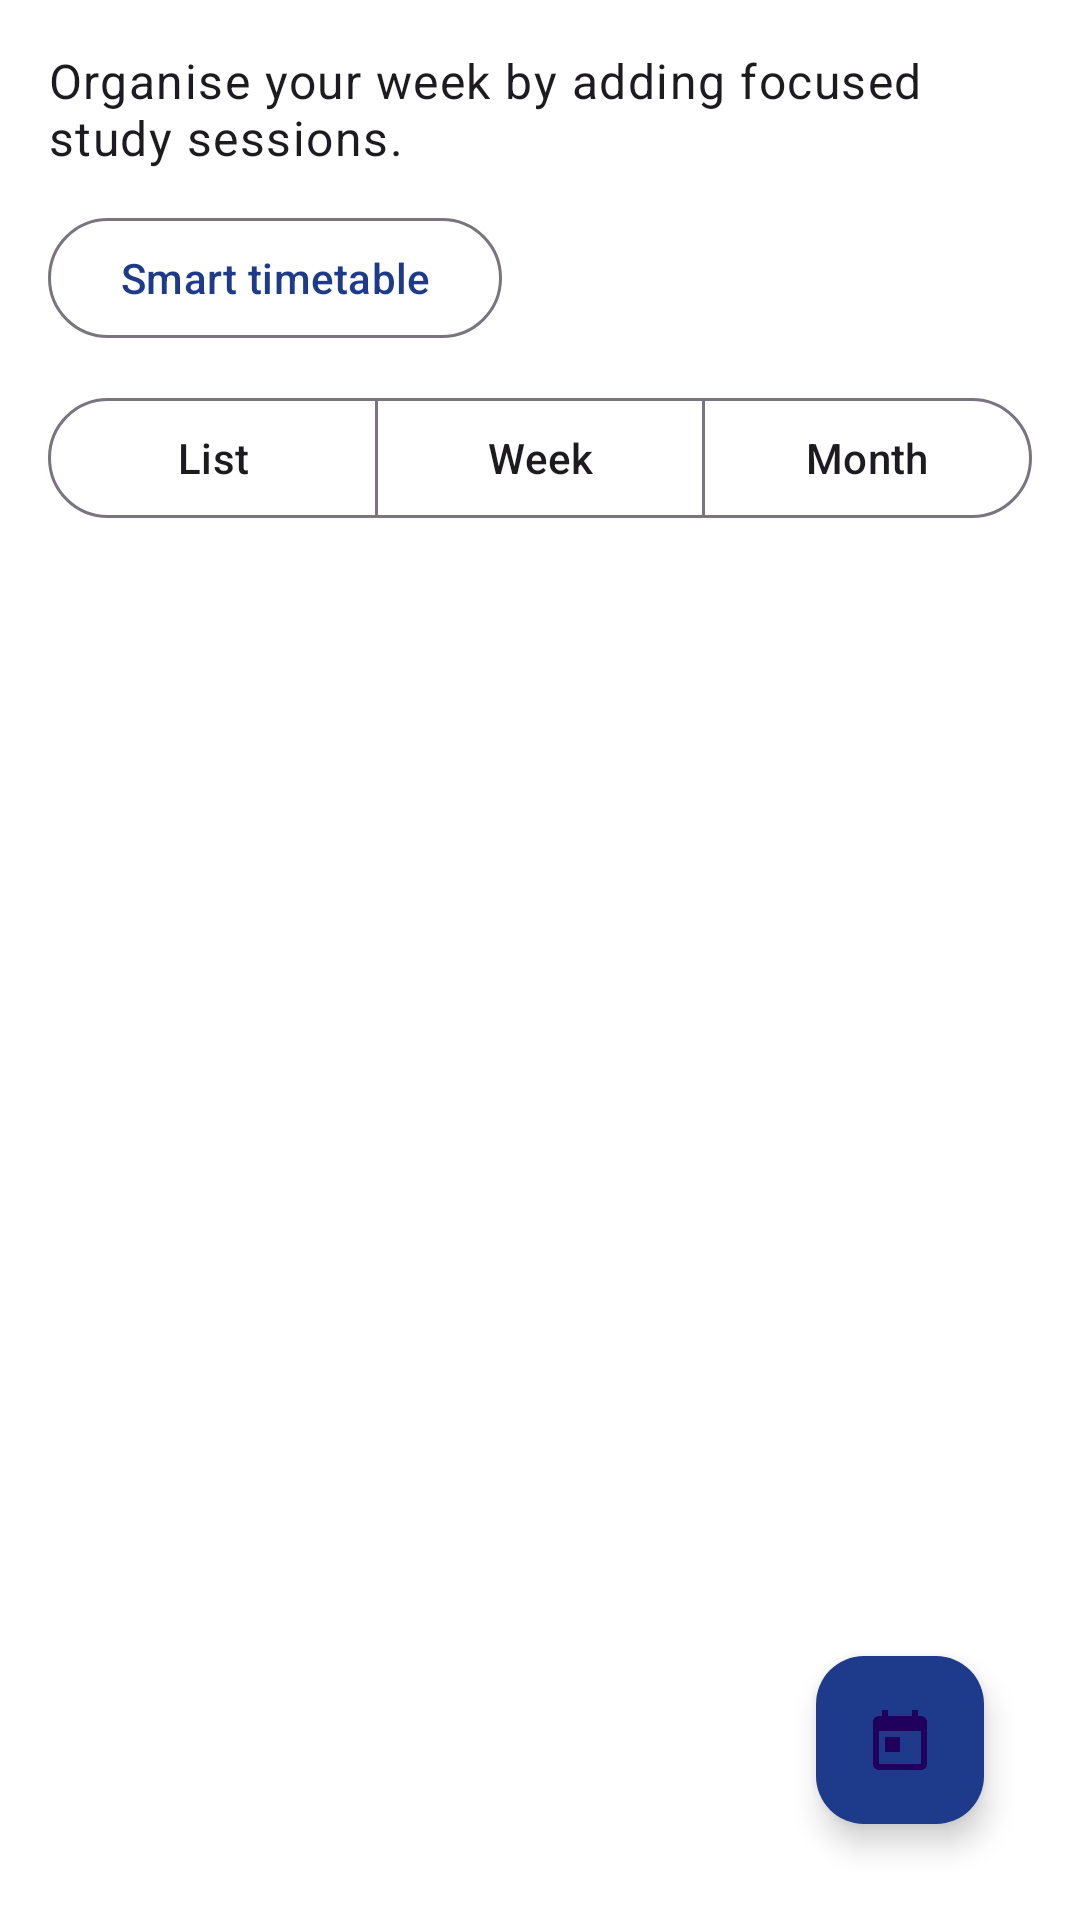

Icons on this 1080*1920 Android screen, each with the point to tap as (x,y):
Add study task: (900,1740)
